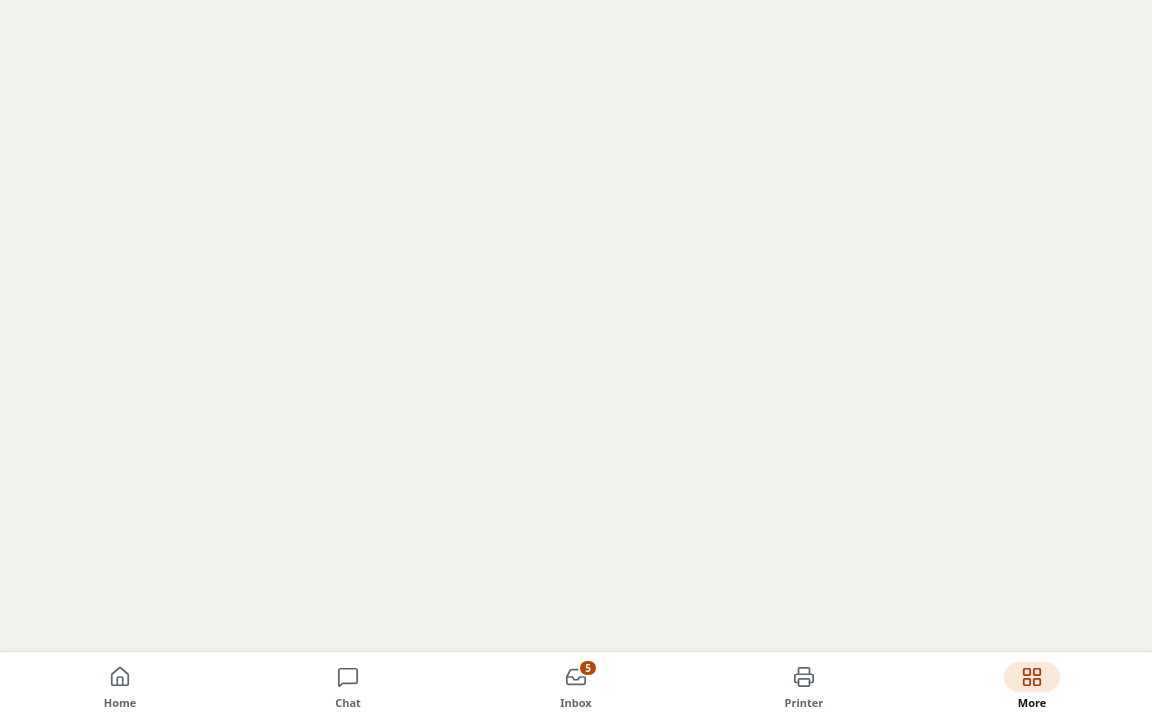
Test: AppShell › shows the tab bar with five tabs below 900 px, More opens the rest
What coordinates should you click on to do the following:
click the button with test id "tab-more"
I would click on:
 (1032, 686)
Its box is [918,658,1146,714].
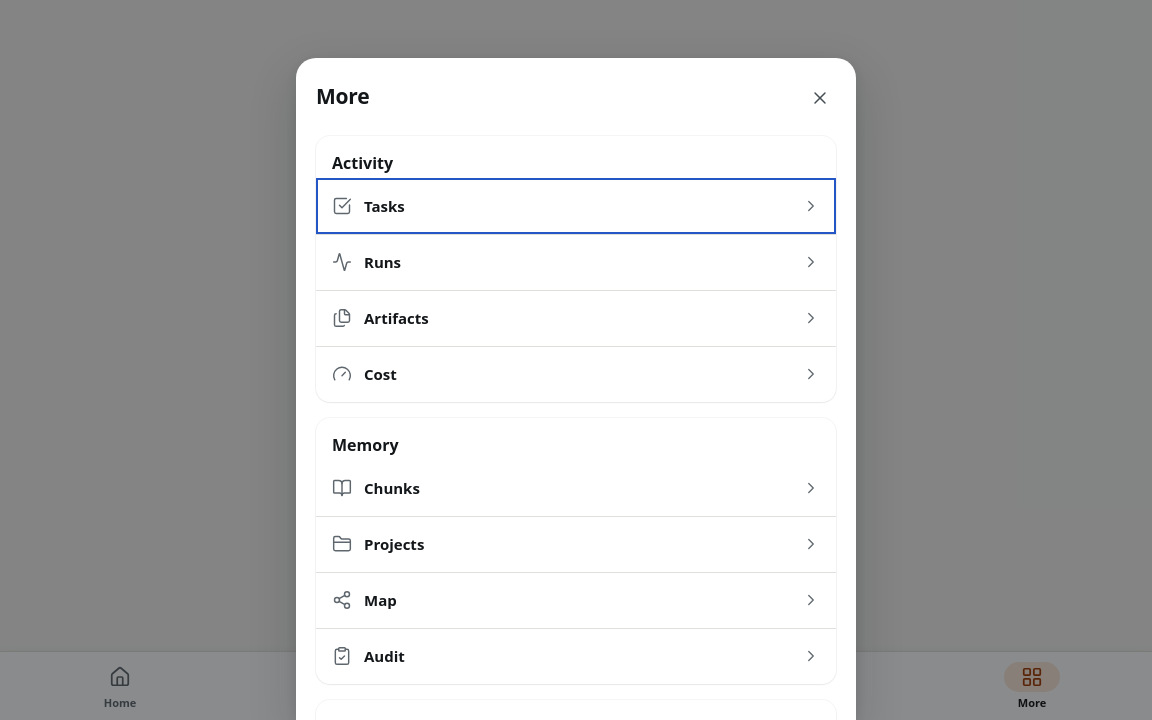
expect the link with test id "more-runs" reads "Runs": met, box [316,234,836,290]
